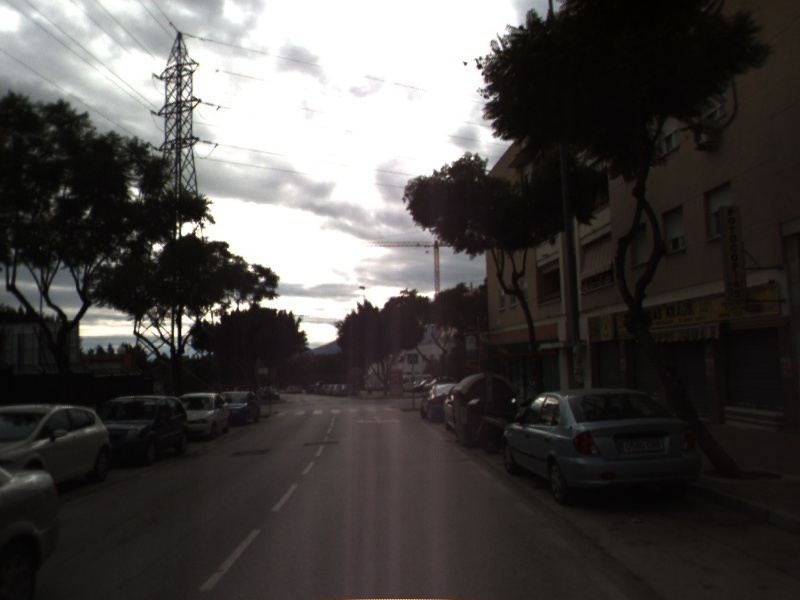STRAIGHT_LEFT_RIGHT: (353, 413, 403, 426)
